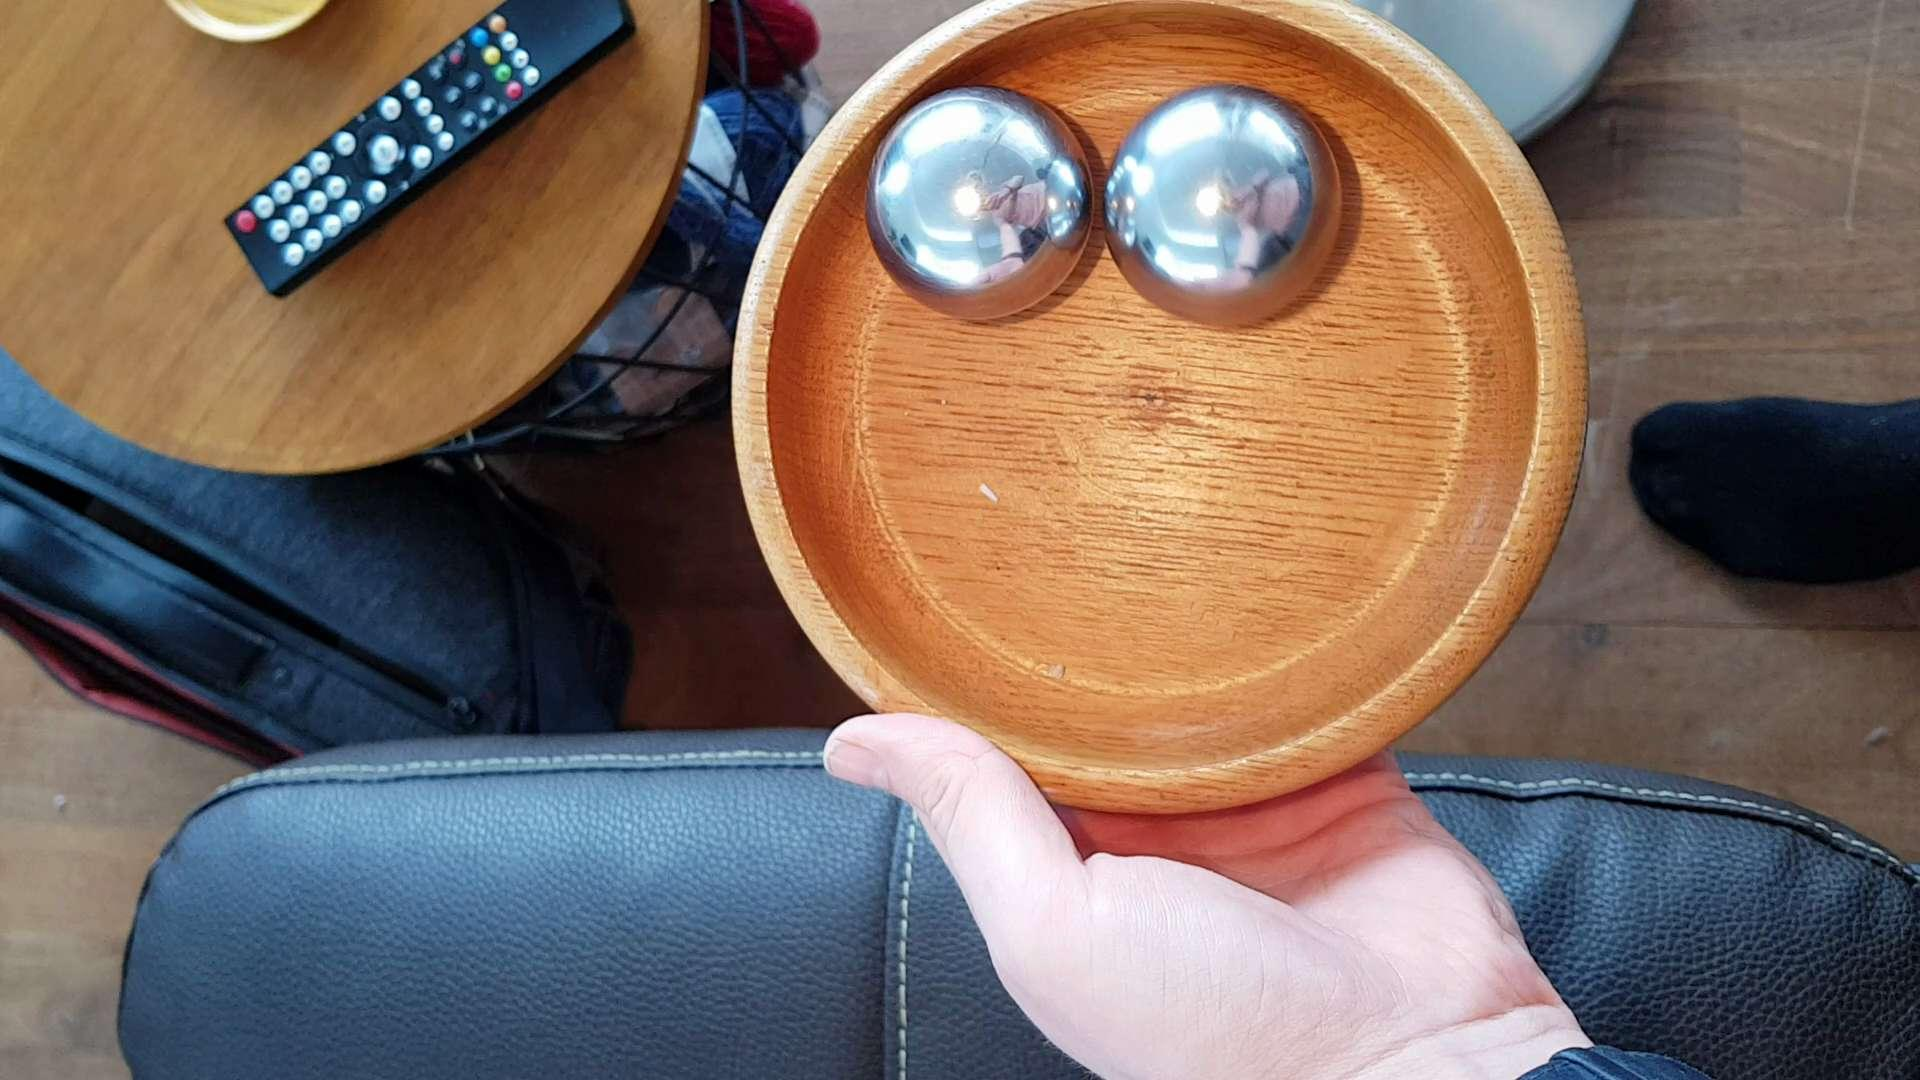sphere: (1106, 82, 1367, 338), (856, 75, 1114, 313)
